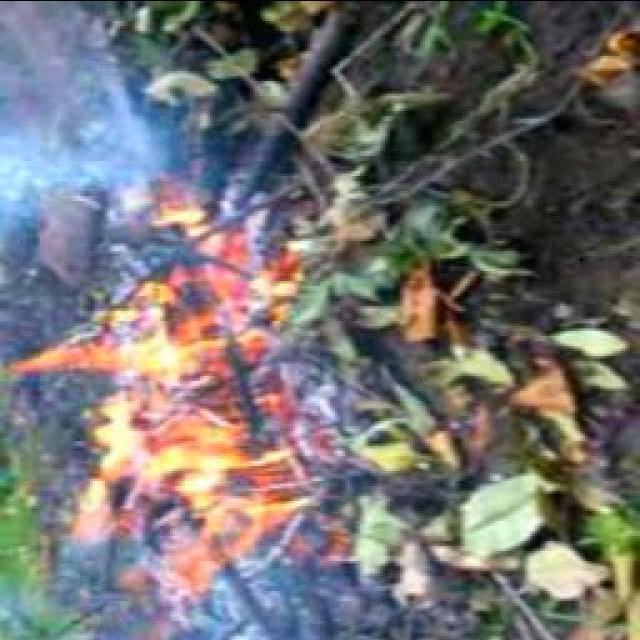Fire: (38, 217, 286, 586)
